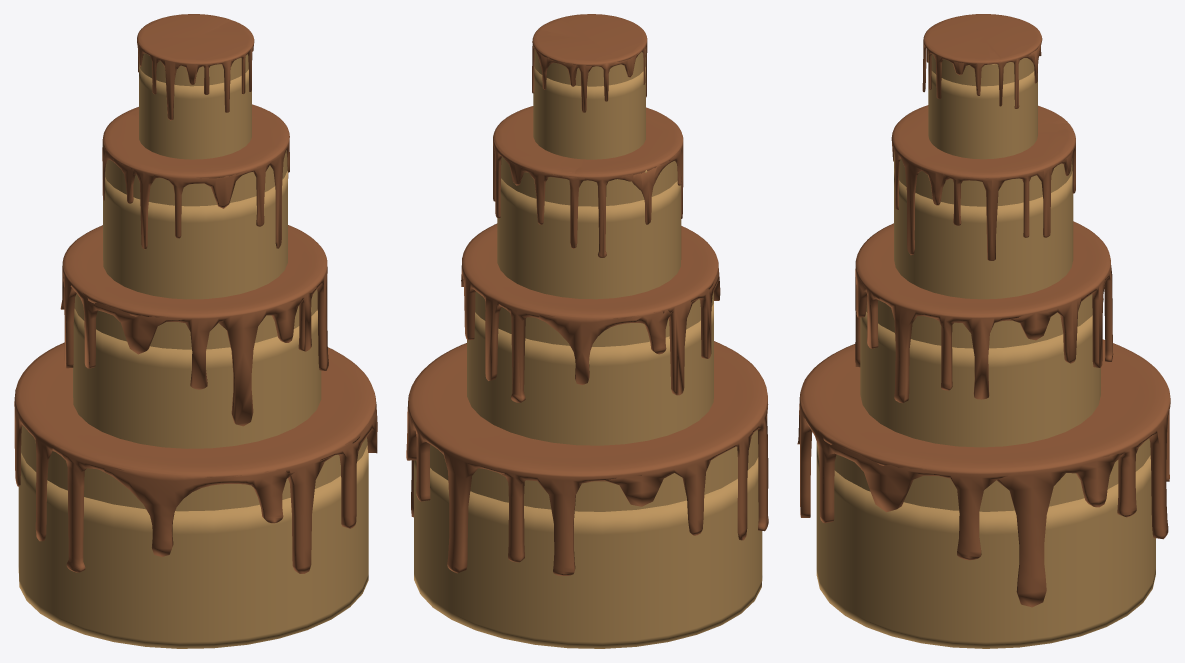
The model's file is 4-tier-caramel-ganache-none.glb.
The picture shows the model from 3 angles, left to right: view 1: azimuth 30°, elevation 25°; view 2: azimuth 150°, elevation 25°; view 3: azimuth 270°, elevation 25°; orthographic projection.
Parts seen in each view (by area): view 1: 3.001, tHE ICING.008, 3, 2, tHE ICING.007, tHE ICING.006, 1, tHE ICING.009; view 2: 3.001, tHE ICING.008, 3, 2, tHE ICING.007, tHE ICING.006, 1, tHE ICING.009; view 3: 3.001, tHE ICING.008, 3, 2, tHE ICING.007, tHE ICING.006, 1, tHE ICING.009.
Part boxes in pixels (x1=…): 3.001: x1=18, y1=425, x2=368, y2=648; tHE ICING.008: x1=14, y1=342, x2=377, y2=573; 3: x1=73, y1=289, x2=321, y2=448; 2: x1=103, y1=145, x2=287, y2=299; tHE ICING.007: x1=60, y1=225, x2=328, y2=426; tHE ICING.006: x1=102, y1=104, x2=289, y2=249; 1: x1=139, y1=53, x2=251, y2=159; tHE ICING.009: x1=137, y1=14, x2=254, y2=120; 3.001: x1=414, y1=430, x2=762, y2=648; tHE ICING.008: x1=406, y1=341, x2=768, y2=575; 3: x1=467, y1=291, x2=713, y2=445; 2: x1=497, y1=157, x2=681, y2=299; tHE ICING.007: x1=461, y1=223, x2=720, y2=402; tHE ICING.006: x1=493, y1=106, x2=683, y2=257; 1: x1=533, y1=49, x2=645, y2=159; tHE ICING.009: x1=532, y1=14, x2=647, y2=112; 3.001: x1=816, y1=438, x2=1155, y2=648; tHE ICING.008: x1=797, y1=339, x2=1170, y2=607; 3: x1=860, y1=294, x2=1100, y2=447; 2: x1=894, y1=152, x2=1073, y2=299; tHE ICING.007: x1=855, y1=221, x2=1113, y2=403; tHE ICING.006: x1=891, y1=105, x2=1075, y2=260; 1: x1=928, y1=54, x2=1037, y2=159; tHE ICING.009: x1=922, y1=14, x2=1042, y2=108.
Bounding box in the file's own units: 4.52 × 7.45 × 4.69.
